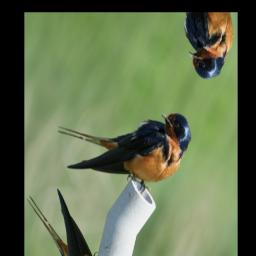Swallow: (48, 44, 199, 231)
